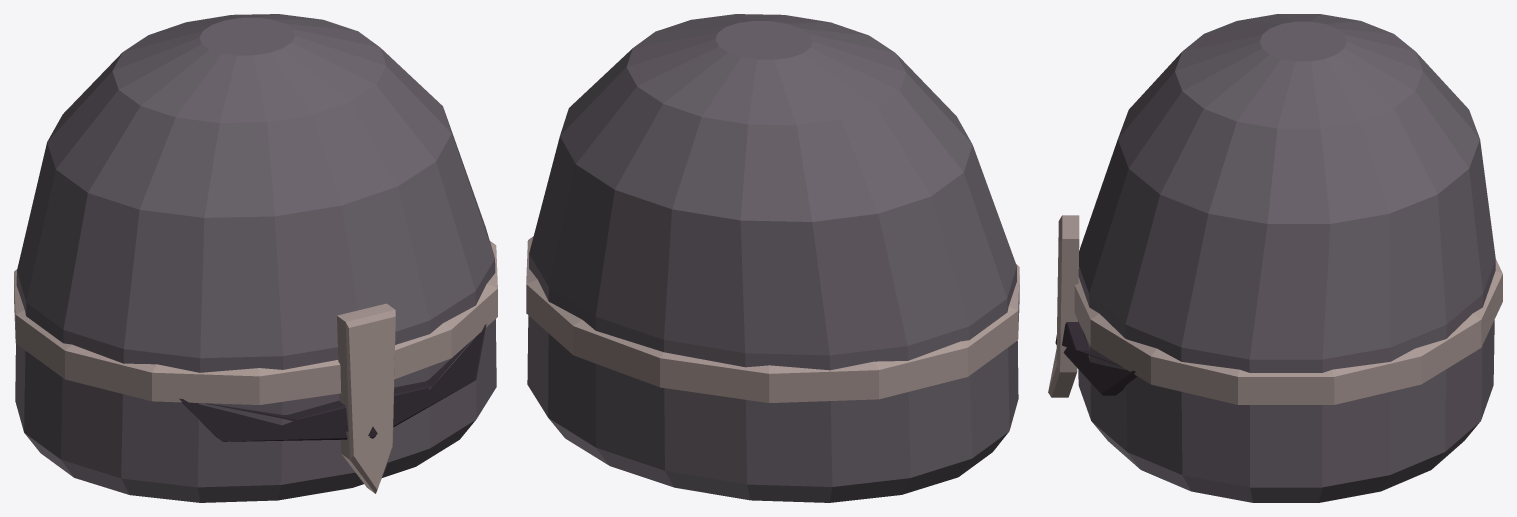
The model's file is VisoredHelm.obj.
3 renders of one model, left to right at view 1: azimuth 30°, elevation 25°; view 2: azimuth 150°, elevation 25°; view 3: azimuth 270°, elevation 25°, orthographic. The views are drawn at different scales.
Visible parts, largest first — view 1: Body; view 2: Body; view 3: Body.
Part boxes in pixels (x1,y1,x2,y2): Body: (14, 14, 497, 502); Body: (526, 14, 1019, 502); Body: (1048, 14, 1502, 502).
Size of the model in its own units: 0.6844 by 0.567 by 0.6378.
Materials: 1 (1 with a texture image).
